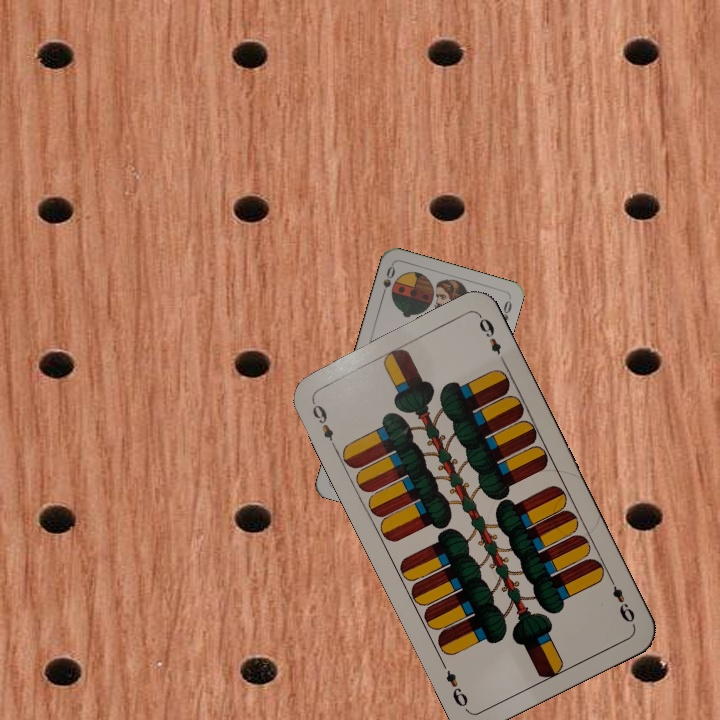E9: (307, 396, 339, 452), (605, 573, 638, 625)
SO: (377, 261, 398, 301)
